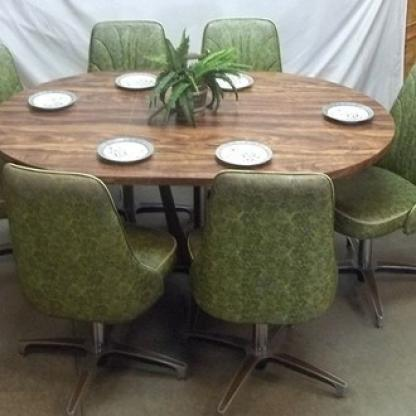chair: (3, 159, 181, 413), (179, 167, 337, 416), (334, 54, 416, 326), (77, 15, 187, 78), (203, 18, 285, 70)
table: (0, 62, 400, 194)
